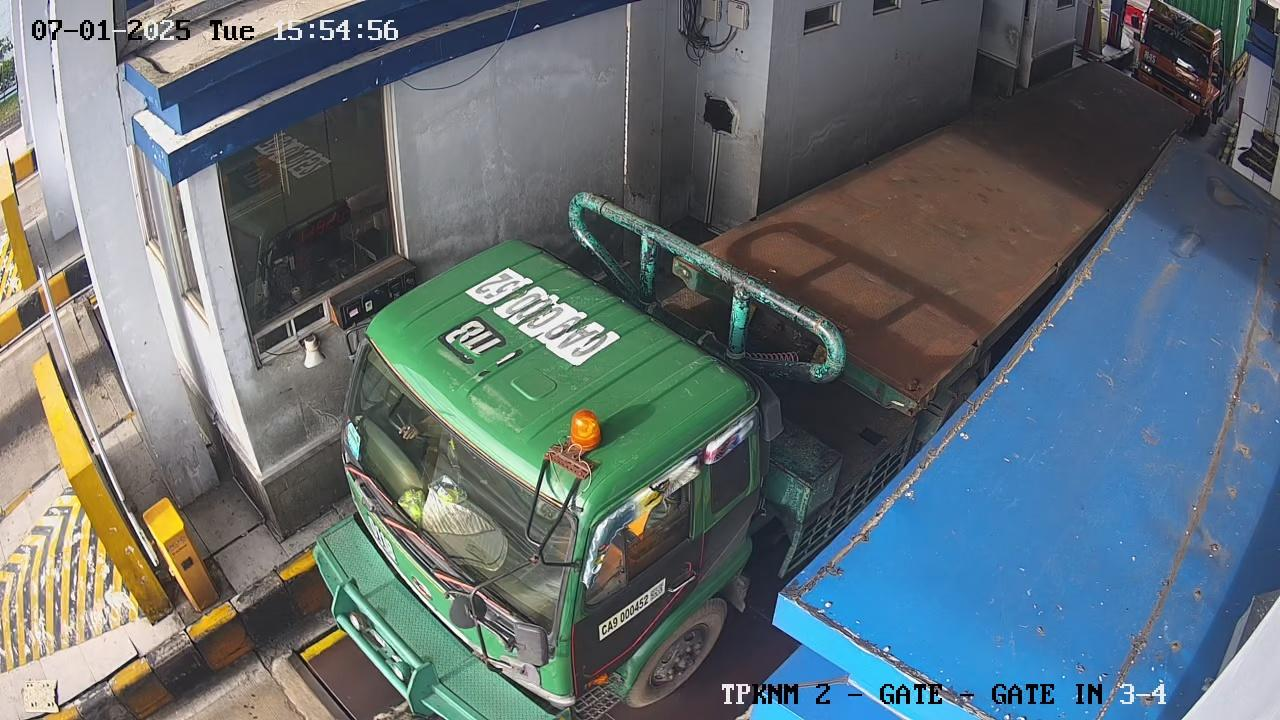truck_id: (418, 259, 622, 445), (591, 576, 672, 642)
